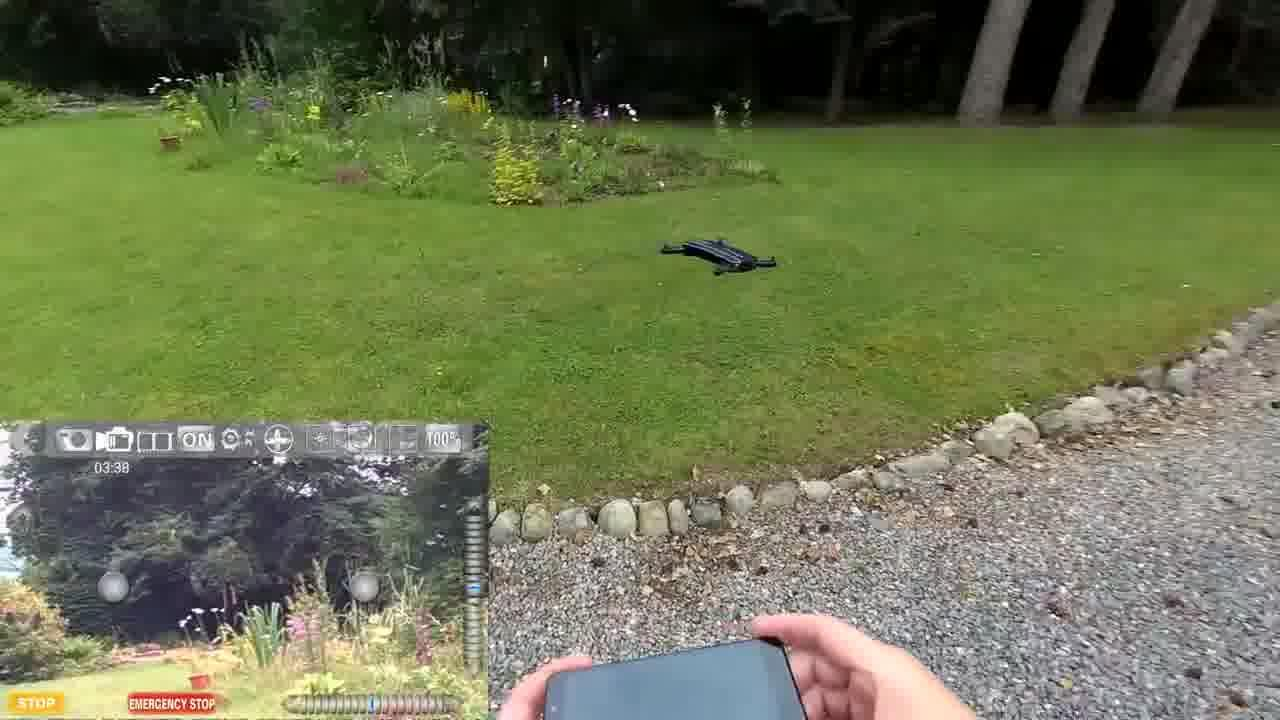drone: (657, 222, 796, 287)
